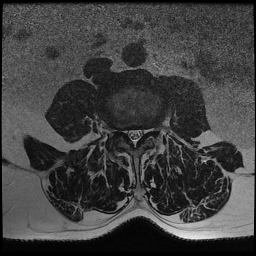CCS_normal: (131, 121, 138, 152)
LFS_severe_stenosis: (146, 120, 154, 141)
LLS_stenosis: (138, 121, 146, 145)
RFS_severe_stenosis: (116, 119, 123, 142)
RLS_stenosis: (123, 121, 131, 146)
